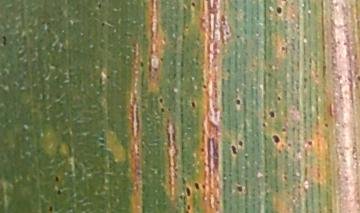tarspot: (206, 136, 219, 177), (229, 143, 239, 157), (295, 135, 302, 155), (274, 4, 283, 16), (189, 1, 199, 11), (235, 183, 244, 194), (1, 34, 8, 48), (302, 76, 309, 90), (232, 97, 242, 106), (267, 110, 277, 119), (270, 134, 280, 143), (184, 185, 191, 197), (278, 44, 287, 53), (236, 139, 245, 148), (158, 95, 165, 106), (306, 139, 315, 147), (47, 204, 55, 213), (224, 66, 232, 75), (199, 146, 206, 156), (193, 180, 199, 191), (307, 56, 312, 69), (158, 106, 166, 114), (261, 120, 268, 129), (200, 81, 207, 90), (301, 34, 310, 41), (223, 30, 231, 37), (96, 1, 103, 9), (281, 125, 287, 134), (190, 100, 196, 109), (159, 55, 165, 64), (291, 151, 297, 160), (323, 122, 330, 129), (53, 175, 60, 182), (286, 141, 293, 148), (243, 152, 249, 160), (215, 198, 221, 206), (139, 59, 145, 67), (235, 33, 241, 41), (250, 62, 256, 70), (185, 203, 191, 210), (56, 188, 62, 195), (283, 17, 289, 24), (355, 73, 360, 81), (106, 73, 111, 81), (283, 153, 288, 161), (283, 23, 288, 31), (276, 95, 282, 101), (100, 22, 106, 28), (277, 148, 283, 154), (152, 66, 159, 71), (266, 72, 273, 77), (201, 183, 206, 189), (202, 161, 207, 167), (295, 24, 300, 30), (296, 30, 300, 35), (289, 1, 294, 5), (183, 210, 189, 213), (280, 1, 287, 2)
